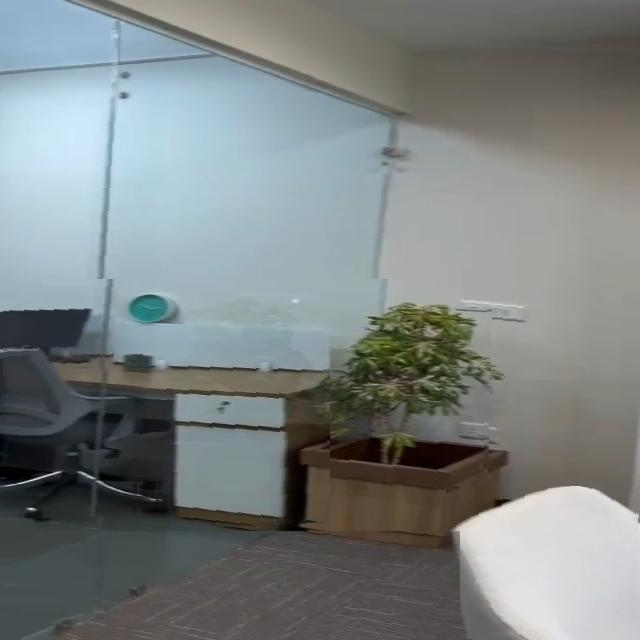floor: (0, 531, 460, 640)
furniture: (329, 307, 492, 548), (153, 351, 330, 530), (446, 486, 640, 640), (0, 337, 144, 518), (3, 286, 119, 378)
wall: (0, 64, 437, 279), (438, 38, 640, 380)
